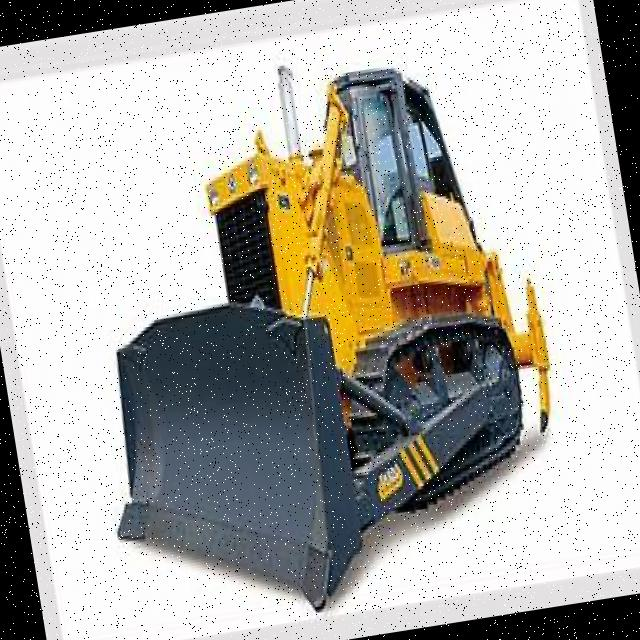Bulldozer: (46, 20, 586, 640)
